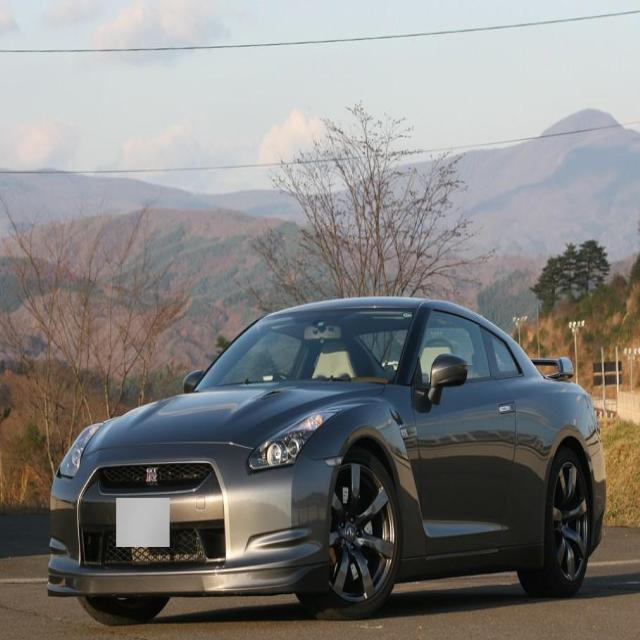front_bumper: (45, 473, 335, 598)
front_glass: (194, 306, 415, 392)
front_left_side_door: (408, 299, 519, 558)
front_left_side_light: (246, 408, 341, 475)
front_left_side_mirror: (413, 353, 468, 413)
front_right_side_light: (56, 421, 105, 479)
front_right_side_mirror: (183, 368, 204, 394)
wheel: (294, 447, 404, 620), (518, 448, 592, 600)
